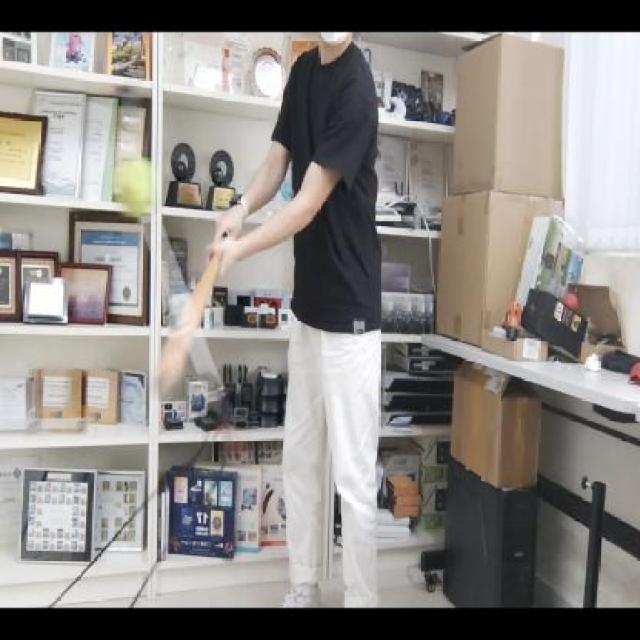baseball: (115, 154, 156, 221)
